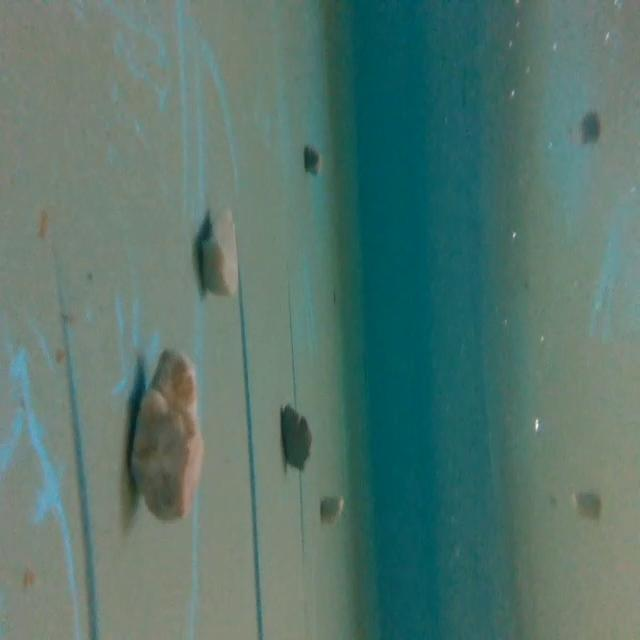rock: (132, 346, 207, 530), (197, 204, 250, 302), (275, 405, 315, 471), (301, 140, 319, 174)
